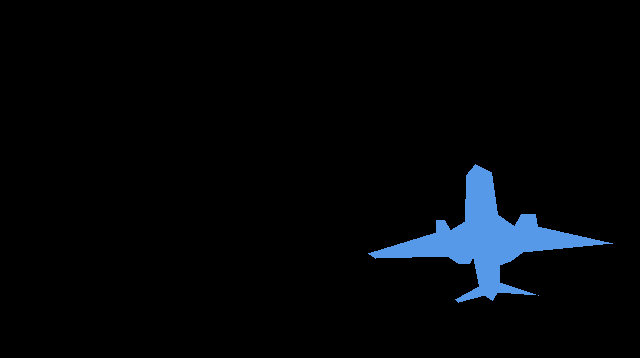Airplane: (368, 164, 612, 303)
